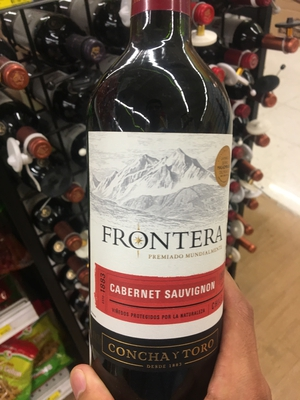frontera cabernet sauvignon: (75, 18, 246, 399)
